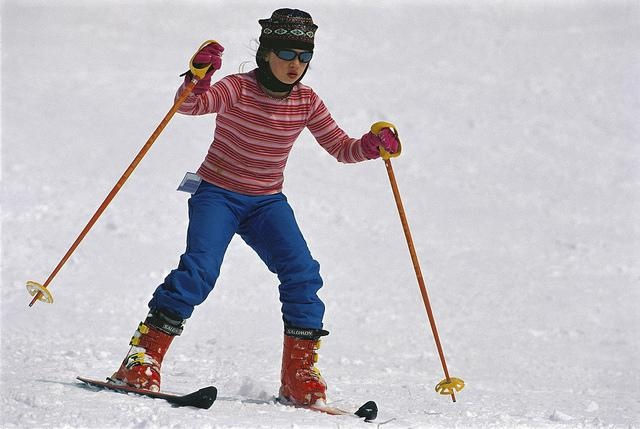person: (110, 5, 384, 422)
